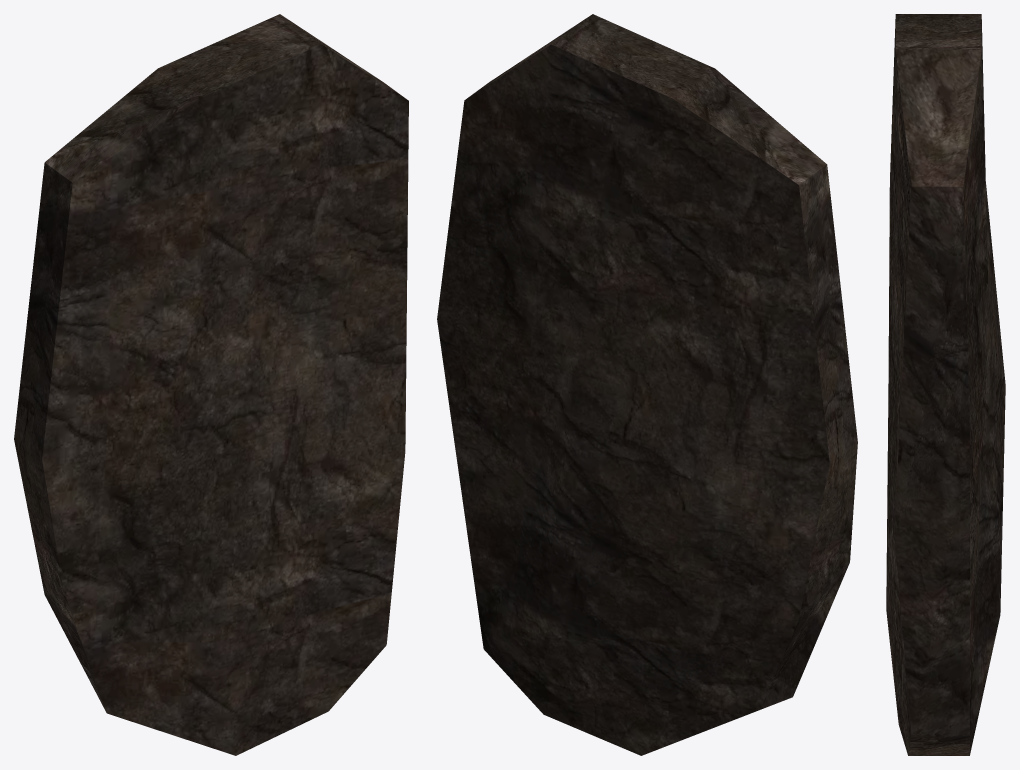
3 views of the same model, side by side, from view 1: azimuth 30°, elevation 25°; view 2: azimuth 150°, elevation 25°; view 3: azimuth 270°, elevation 25° (orthographic). The views are drawn at different scales.
Visible parts, largest first — view 1: model_Object59; view 2: model_Object59; view 3: model_Object59.
Boxes of the visible parts, x1,y1,x2,y2 form: model_Object59: [14, 14, 408, 755]; model_Object59: [437, 14, 857, 755]; model_Object59: [886, 14, 1005, 755].
Size of the model in its own units: 2.95 by 4.99 by 0.7533.
1 material, 1 textured.
